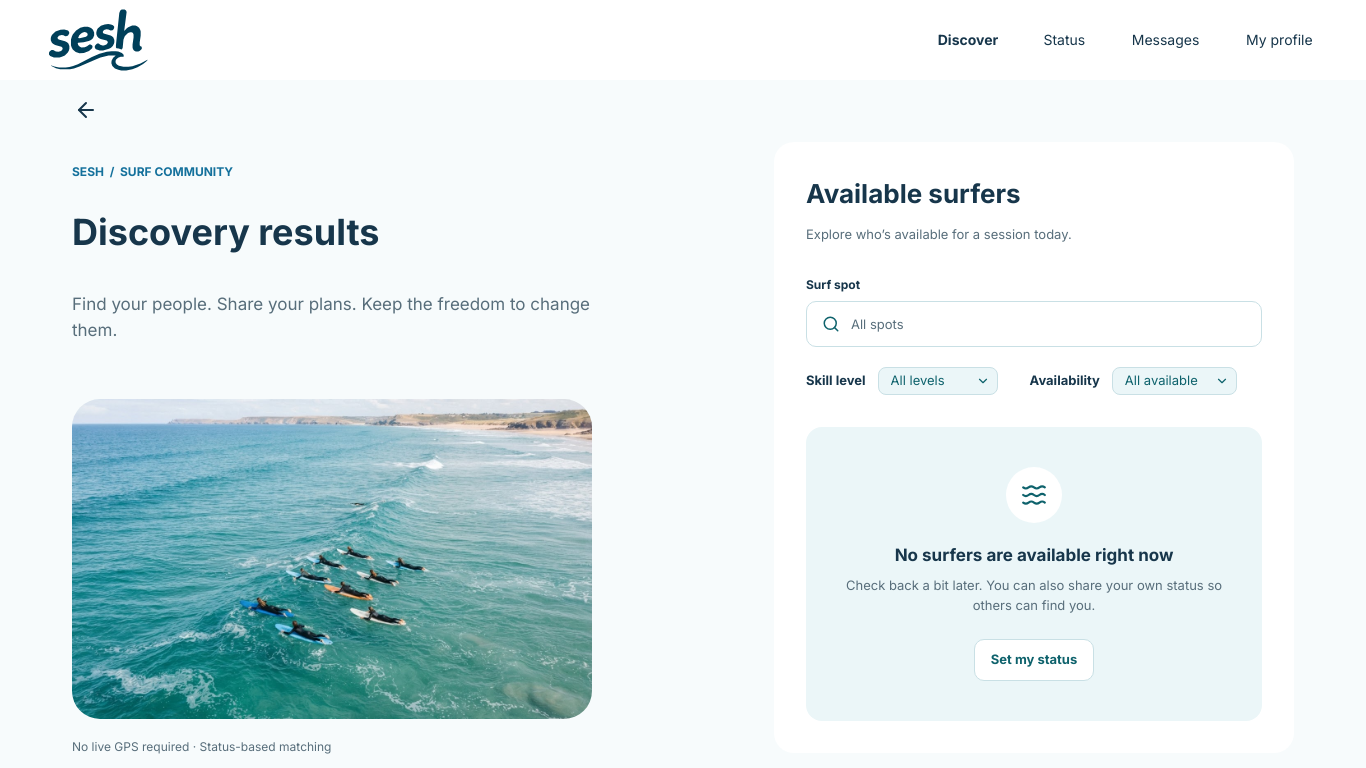
Test: surf spot filter (searchable) › selecting a spot sends its id and shows it in the field
The width and height of the screenshot is (1366, 768).
Expected: the heading "Available surfers" is shown, [806,178,1021,209]
In the dropdown labelled "Surf spot": (1034, 324) [806,300,1262,346], type "guin"
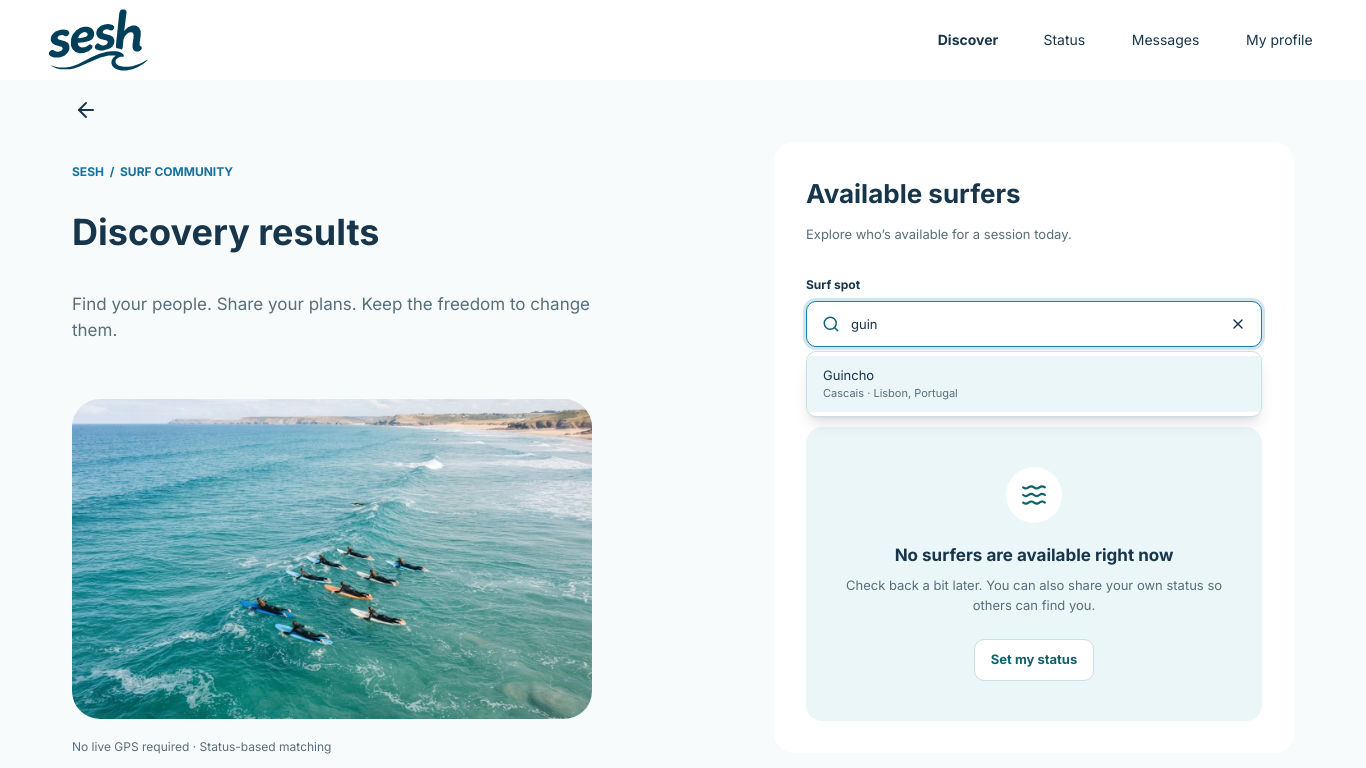
Click the option "Guincho Cascais · Lisbon, Portugal": (849, 374) [807,356,1261,412]
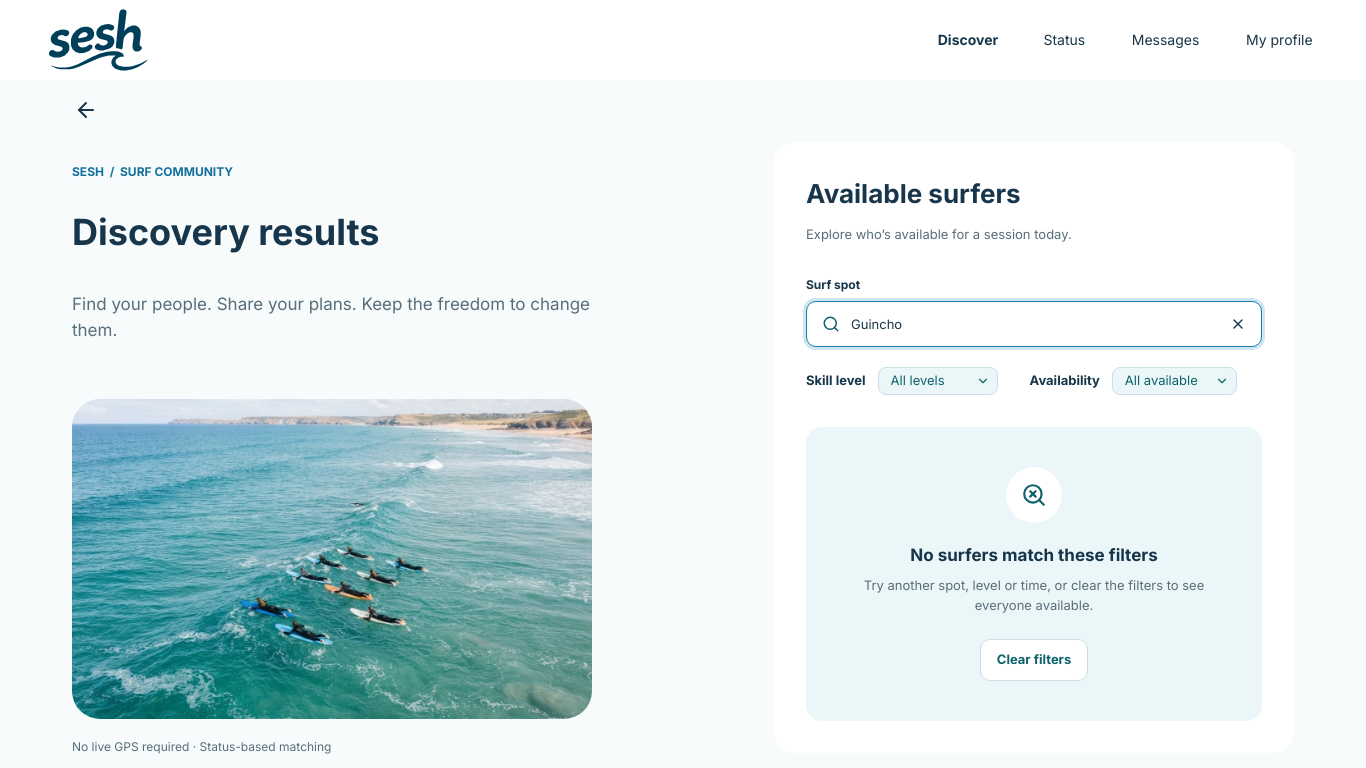
Result: the dropdown labelled "Surf spot" holds "Guincho" at [806,300,1262,346]
